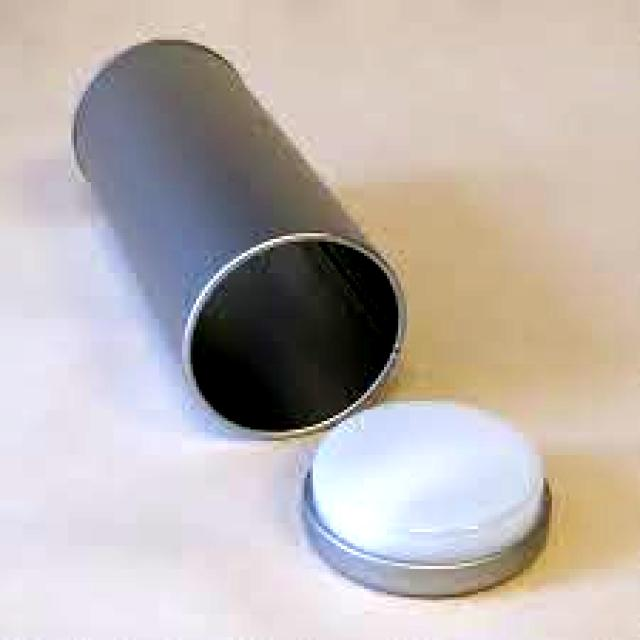Metal: (69, 33, 411, 447)
